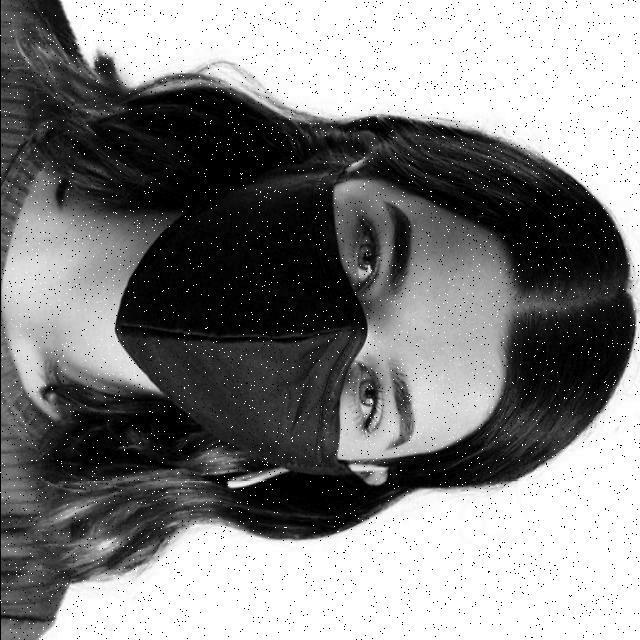no_gloves: (507, 156, 624, 474)
